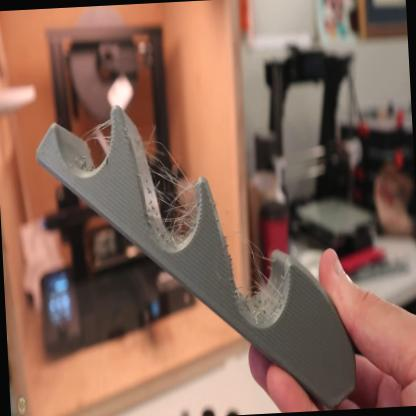fail: (143, 138, 198, 245)
